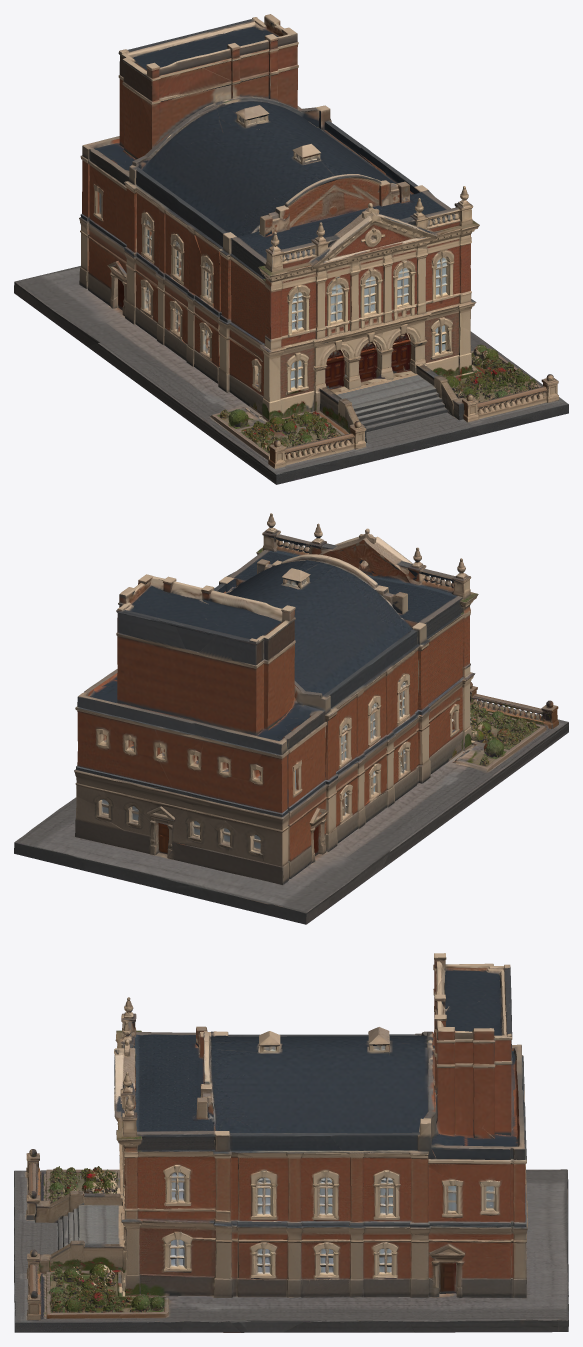
File: building_theatre.glb
The picture shows the model from 3 angles, top to bottom: view 1: azimuth 30°, elevation 25°; view 2: azimuth 150°, elevation 25°; view 3: azimuth 270°, elevation 25°; orthographic projection. The views are drawn at different scales.
Visible parts, largest first — view 1: output_unwrapped; view 2: output_unwrapped; view 3: output_unwrapped.
Part boxes in pixels (x1=…): output_unwrapped: x1=14, y1=14, x2=568, y2=484; output_unwrapped: x1=14, y1=513, x2=568, y2=924; output_unwrapped: x1=14, y1=953, x2=568, y2=1332.
Bounding box in the file's own units: 1.29 × 1.06 × 2.
1 material, 1 textured.
